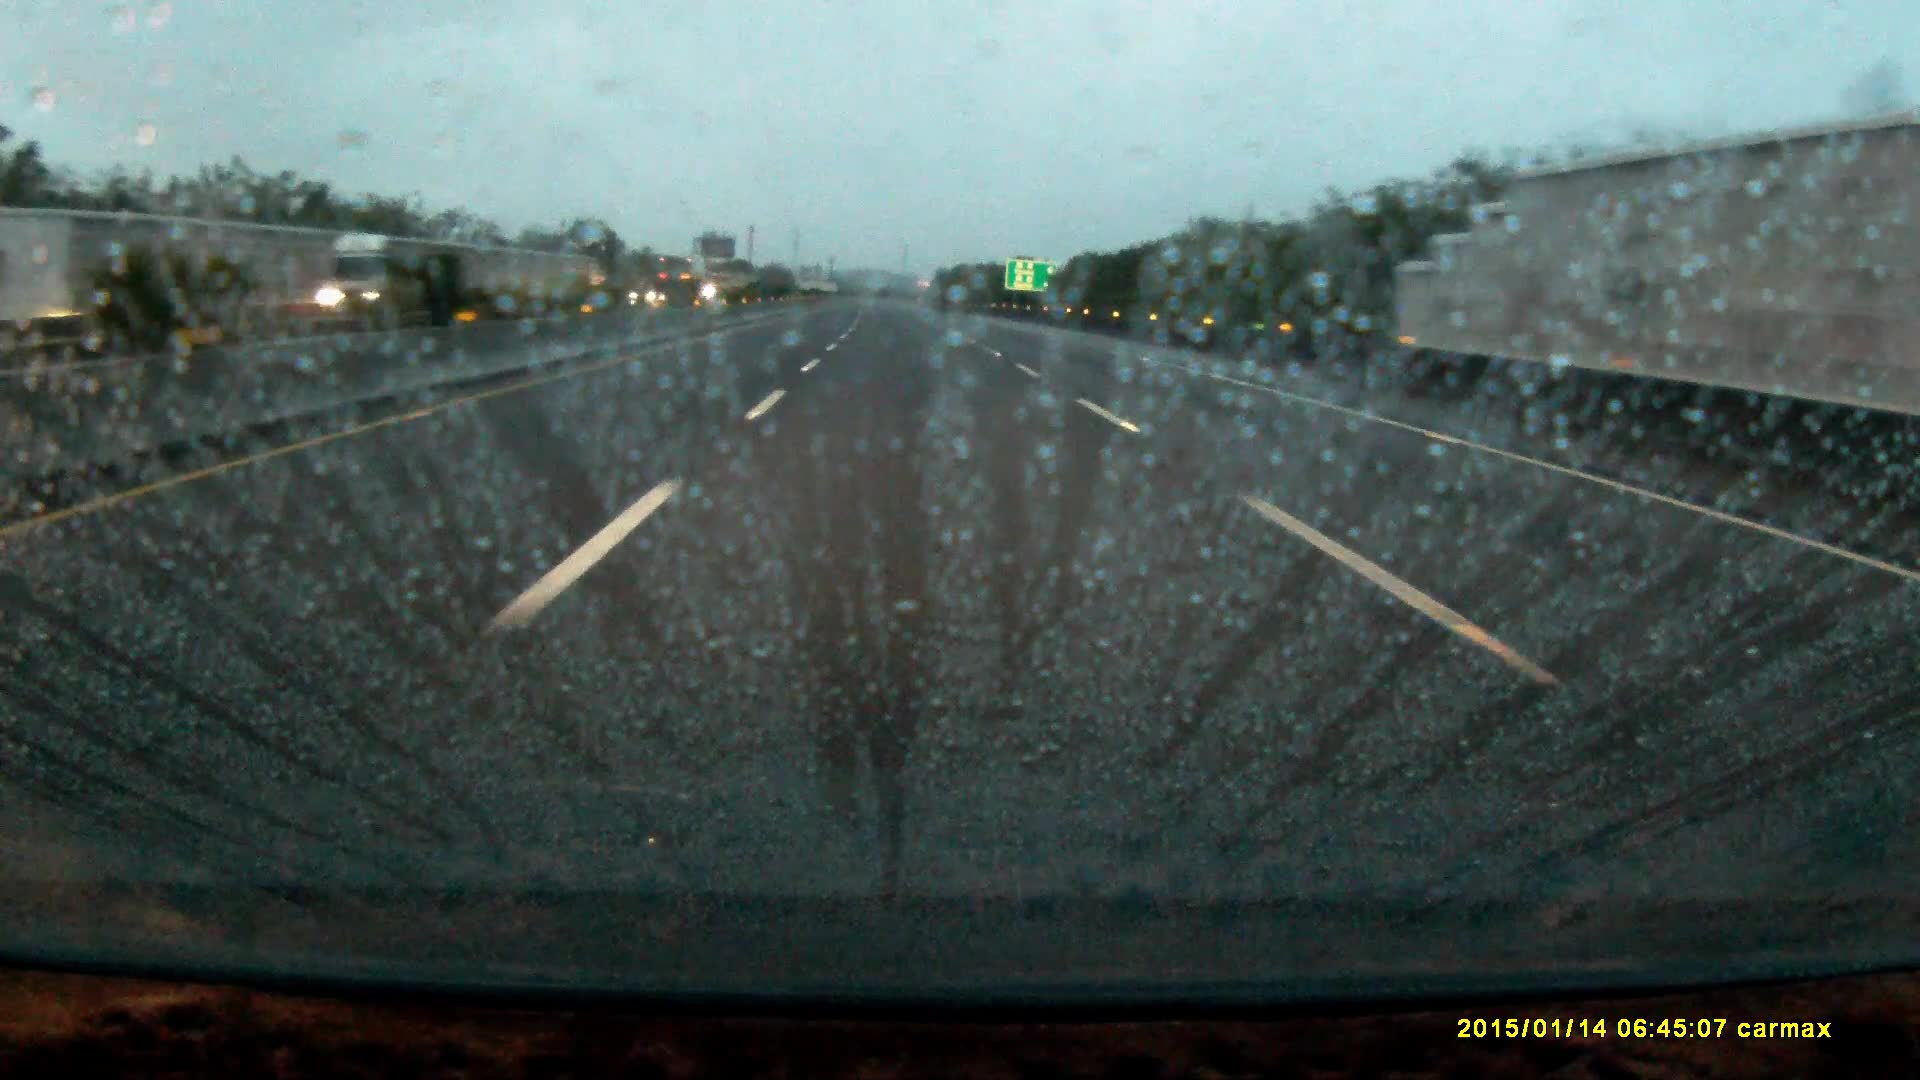vehicle: (315, 233, 438, 338), (654, 260, 709, 314)
